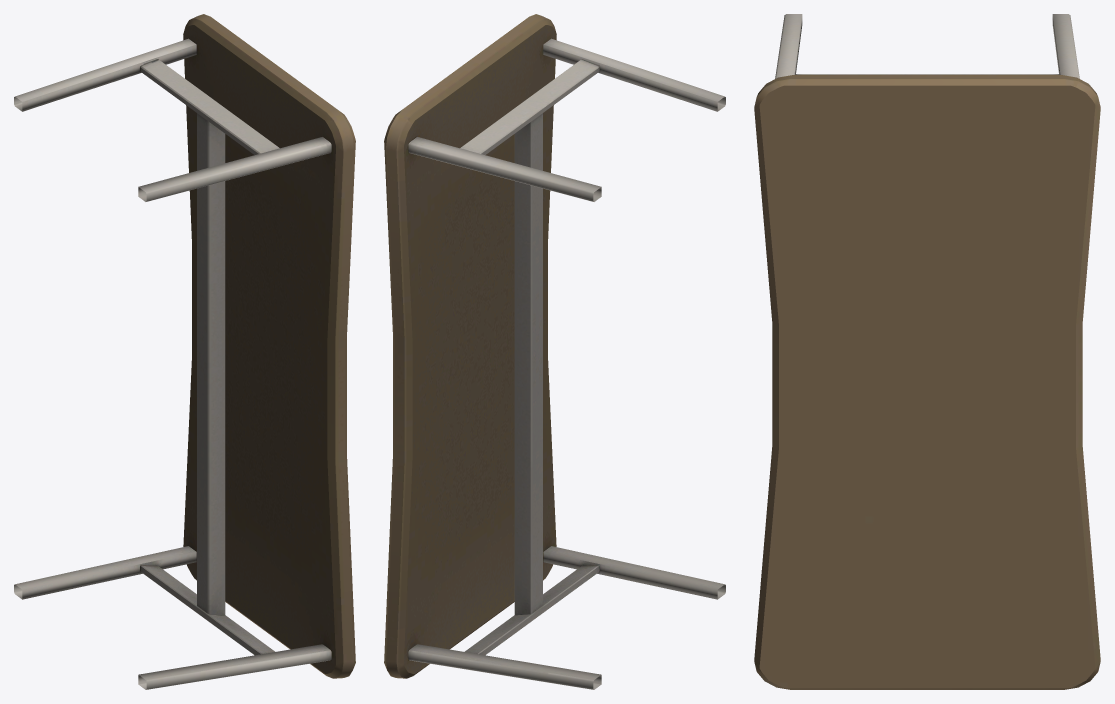
Rendered from props_spytech_work_table001.glb.
The picture shows the model from 3 angles, left to right: view 1: azimuth 30°, elevation 25°; view 2: azimuth 150°, elevation 25°; view 3: azimuth 270°, elevation 25°; orthographic projection. The views are drawn at different scales.
Parts seen in each view (by area): view 1: models/props_spytech/work_table001; view 2: models/props_spytech/work_table001; view 3: models/props_spytech/work_table001.
Boxes of the visible parts, x1=… form: models/props_spytech/work_table001: x1=14, y1=14, x2=355, y2=689; models/props_spytech/work_table001: x1=384, y1=14, x2=725, y2=689; models/props_spytech/work_table001: x1=754, y1=14, x2=1100, y2=689.
Size of the model in its own units: 38 by 104 by 53.46.
1 material, 1 textured.
